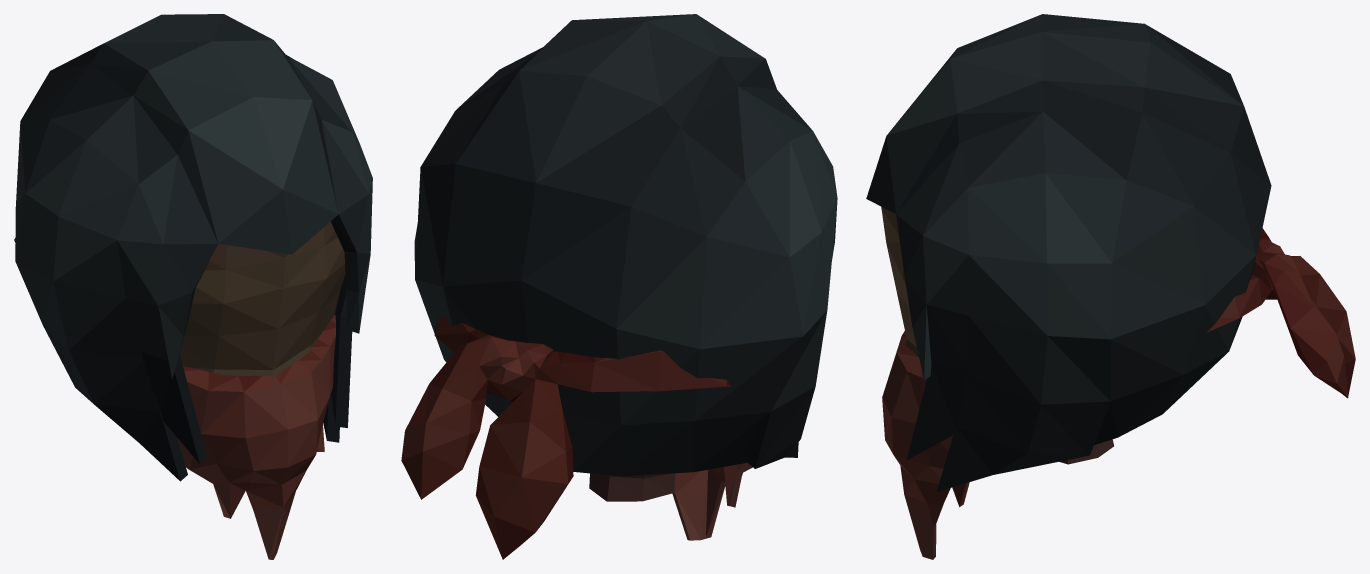
File: helm_darkskin_bob_black_bandana.fbx
3 renders of one model, left to right at view 1: azimuth 30°, elevation 25°; view 2: azimuth 150°, elevation 25°; view 3: azimuth 270°, elevation 25°, orthographic. The views are drawn at different scales.
Visible parts, largest first — view 1: helm_darkskin_bob_black_bandana; view 2: helm_darkskin_bob_black_bandana; view 3: helm_darkskin_bob_black_bandana.
Part boxes in pixels (x1=…): helm_darkskin_bob_black_bandana: x1=14, y1=14, x2=372, y2=559; helm_darkskin_bob_black_bandana: x1=401, y1=14, x2=837, y2=559; helm_darkskin_bob_black_bandana: x1=866, y1=14, x2=1355, y2=559.
Bounding box in the file's own units: 1.18 × 1.65 × 1.4.
